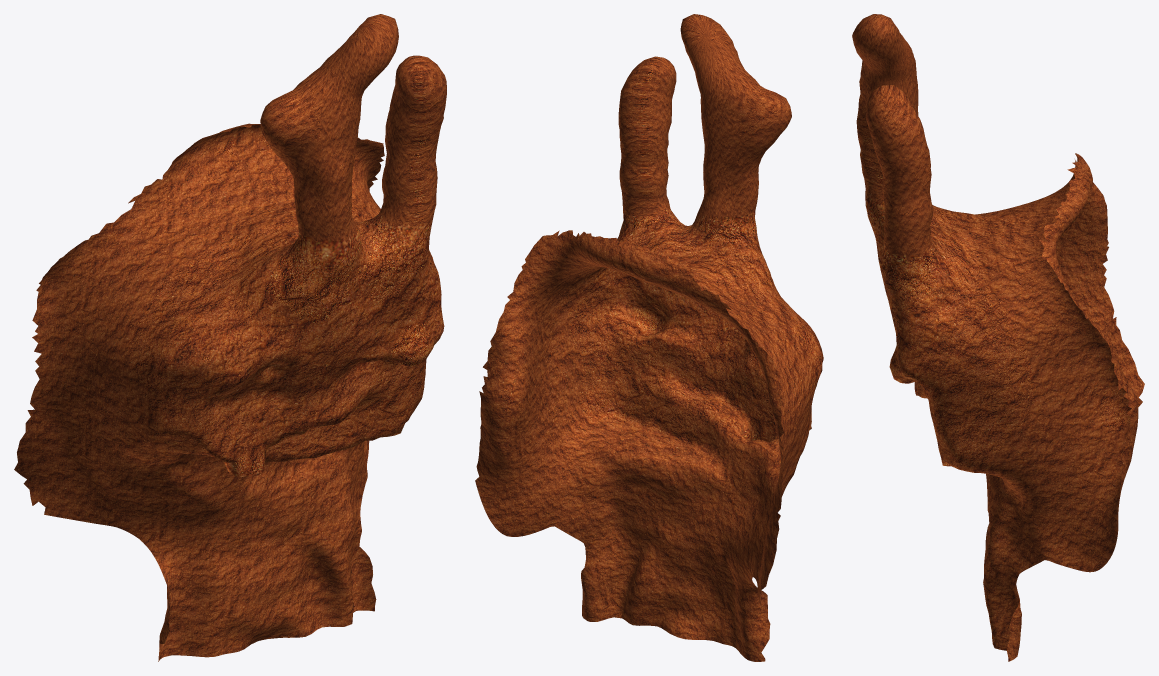
3 views of the same model, side by side, from view 1: azimuth 30°, elevation 25°; view 2: azimuth 150°, elevation 25°; view 3: azimuth 270°, elevation 25° (orthographic). The views are drawn at different scales.
Parts seen in each view (by area): view 1: wall1; view 2: wall1; view 3: wall1.
Boxes of the visible parts, x1=… form: wall1: x1=14, y1=14, x2=446, y2=661; wall1: x1=475, y1=14, x2=823, y2=661; wall1: x1=852, y1=14, x2=1144, y2=661.
Bounding box in the file's own units: 73.38 × 56.18 × 131.
1 material, 1 textured.
